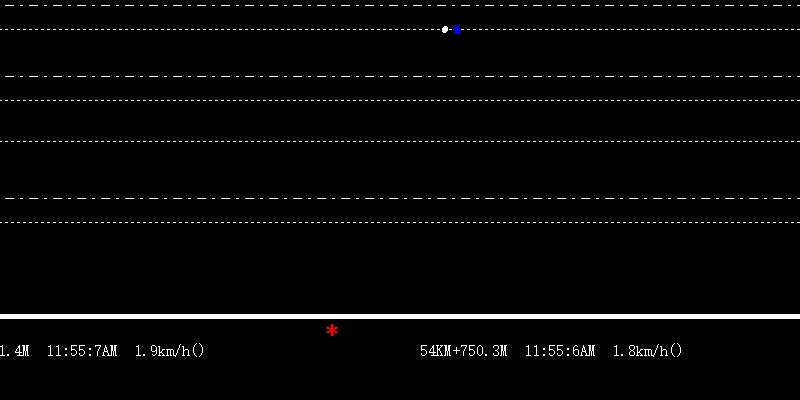face_1: (440, 22, 449, 37), (454, 21, 461, 35)
star: (323, 320, 340, 339)
